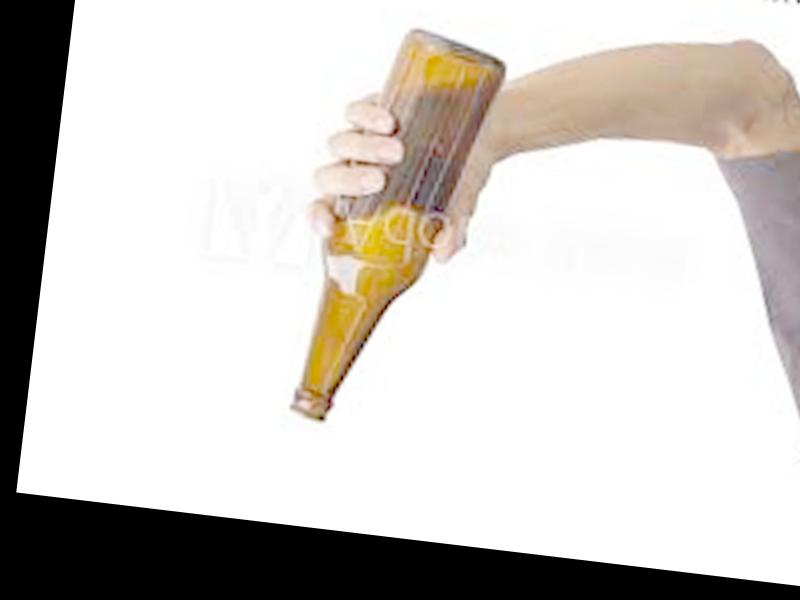Beer: (285, 18, 510, 440)
